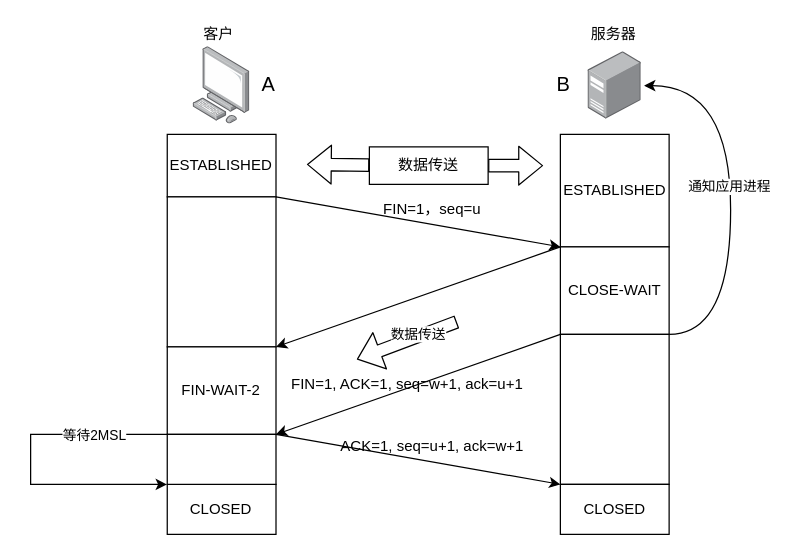
Image size: 791x556. Some labels were removed from this diagram. Each missing label, with the box of its shape:
FIN-WAIT-1: (166, 196, 276, 347)
LASK-ACK: (559, 333, 669, 484)
TIMEWAIT: (166, 433, 276, 484)
